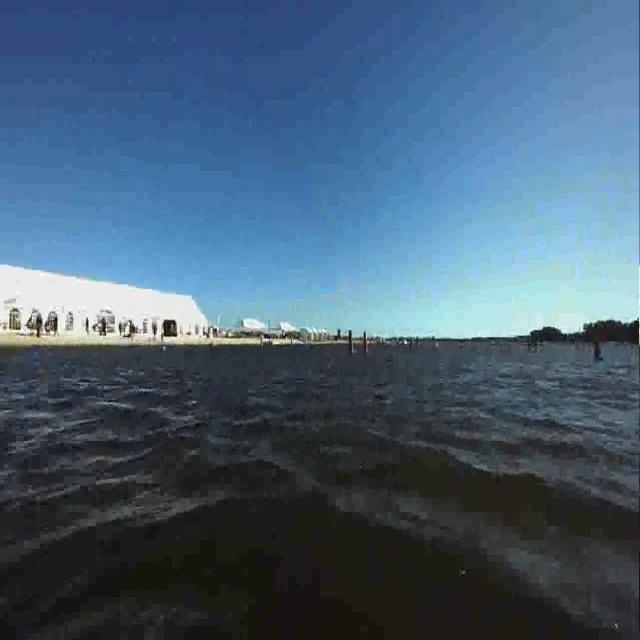green-column-buoy: (346, 327, 355, 358)
